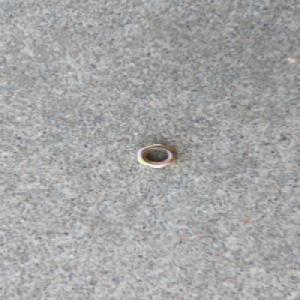Nut: (135, 142, 179, 169)
